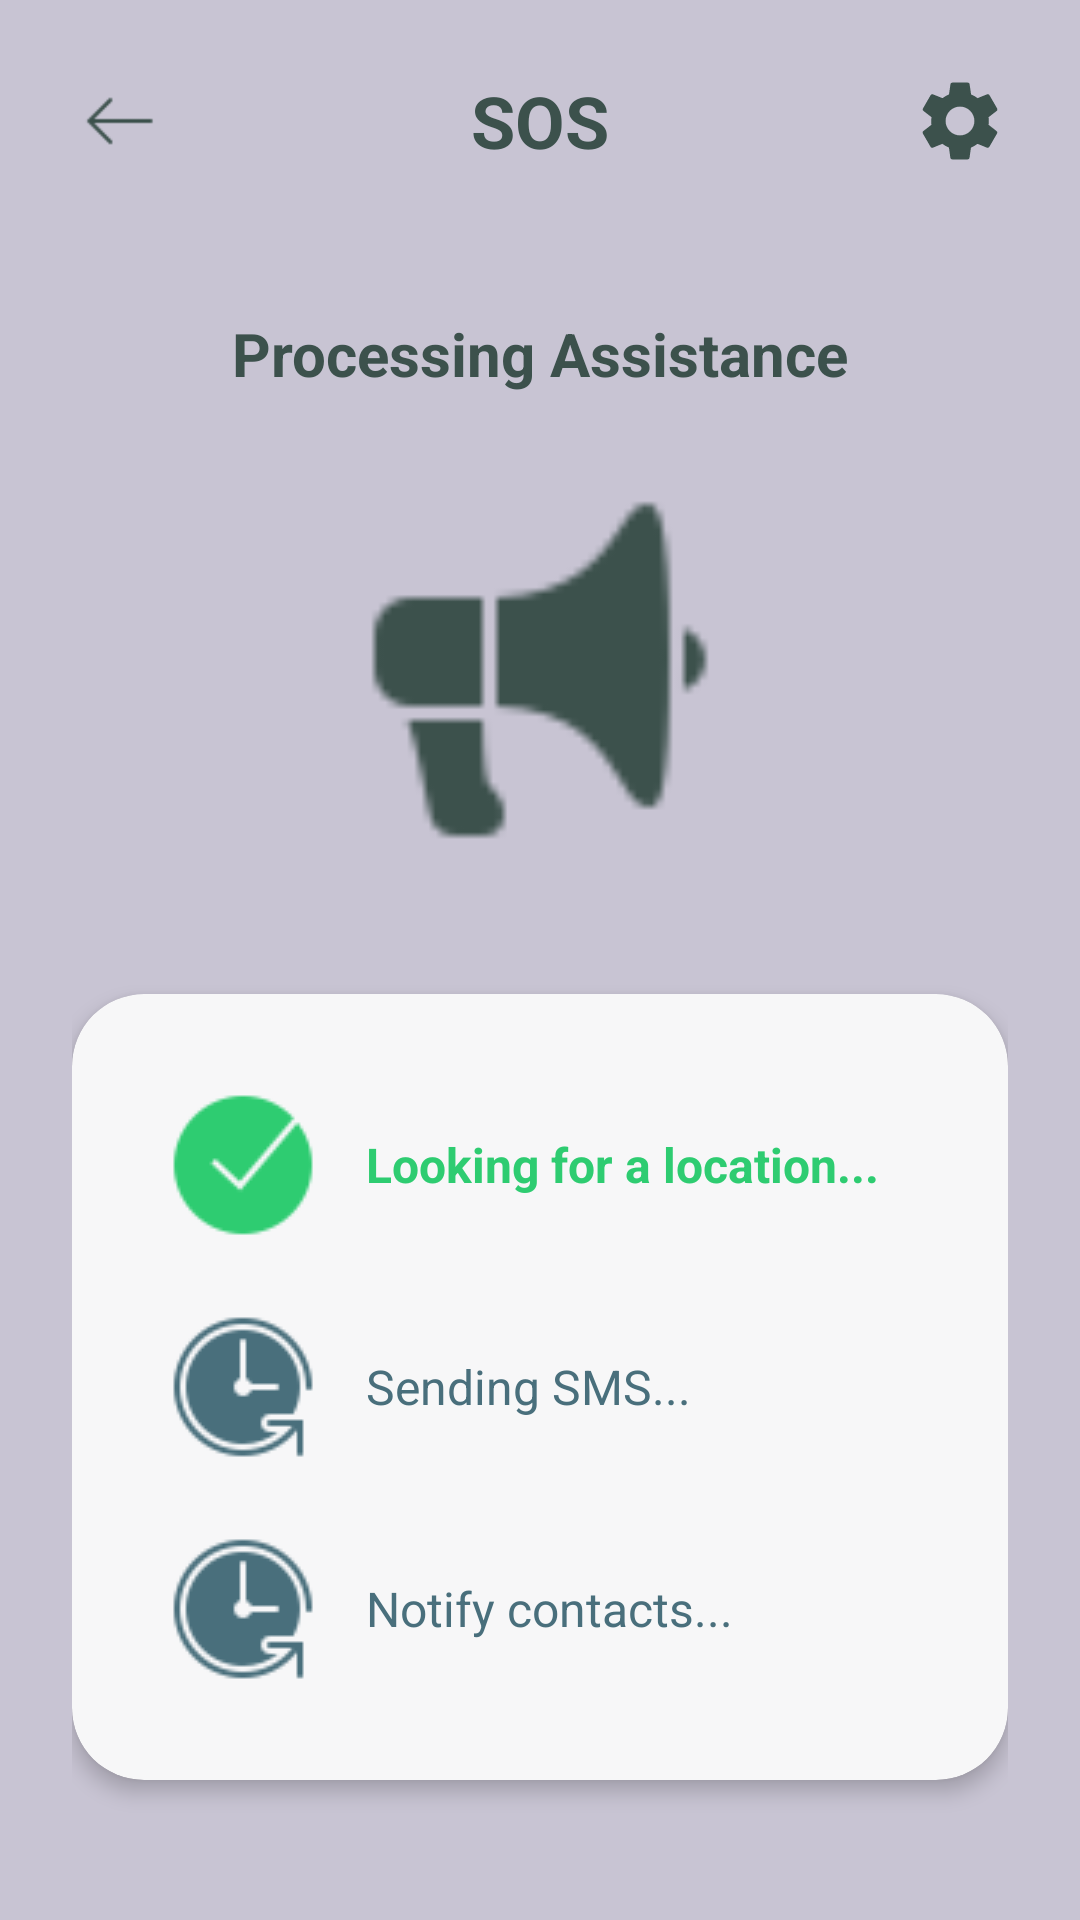

Named icons in this screenshot (1080w x 1920h) and their bounding boxes, [x1,y1,x2,y2]:
back: [87,97,153,145]
megaphone: [372,502,708,838]
settings: [922,82,998,160]
